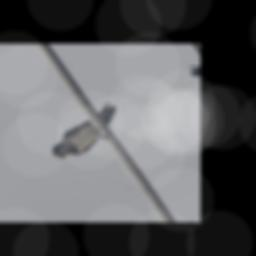Swallow: (38, 101, 133, 164)
